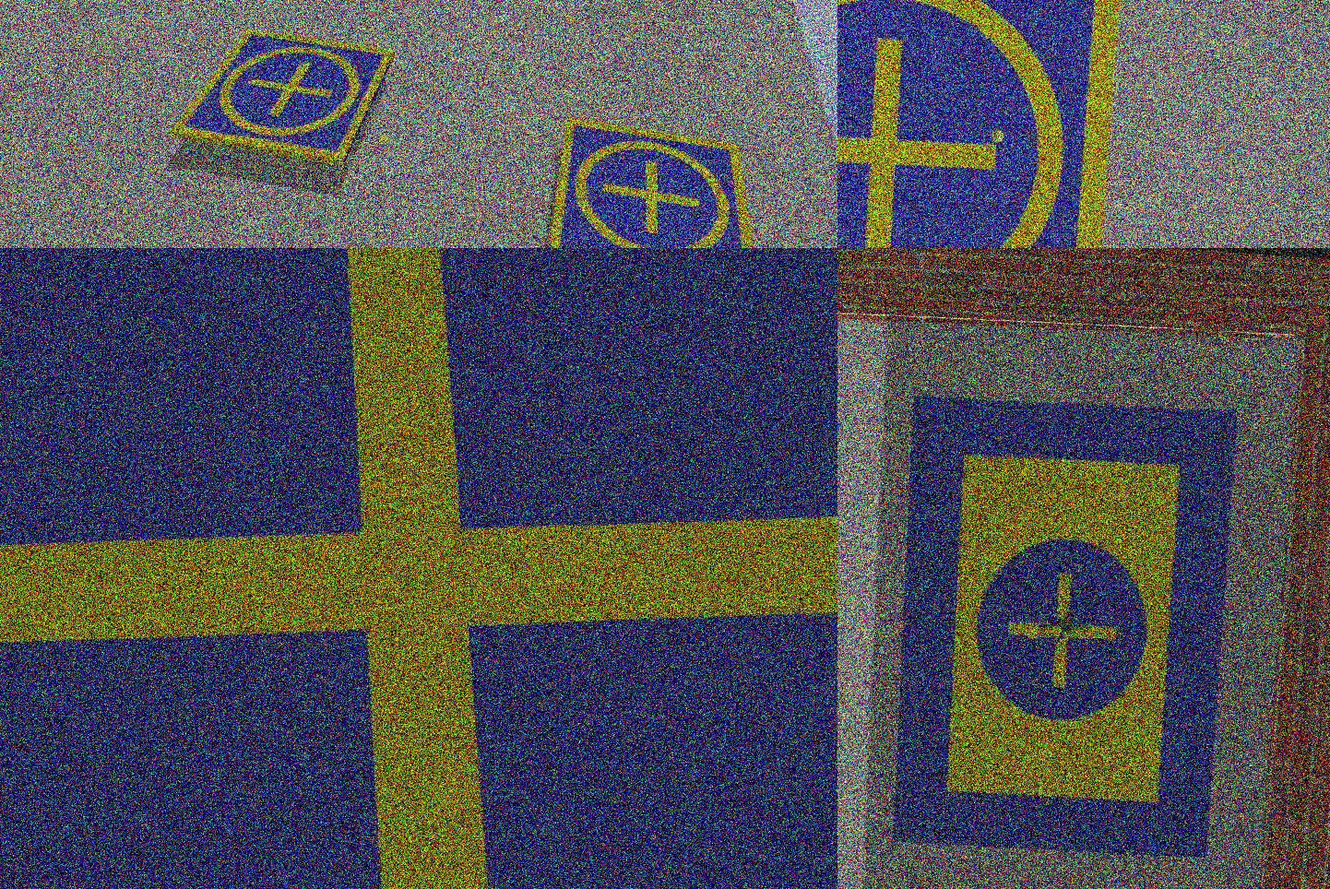large_base: (883, 387, 1242, 868)
small_base: (1, 249, 838, 889), (838, 1, 1122, 249), (168, 22, 398, 171), (542, 114, 775, 249)
